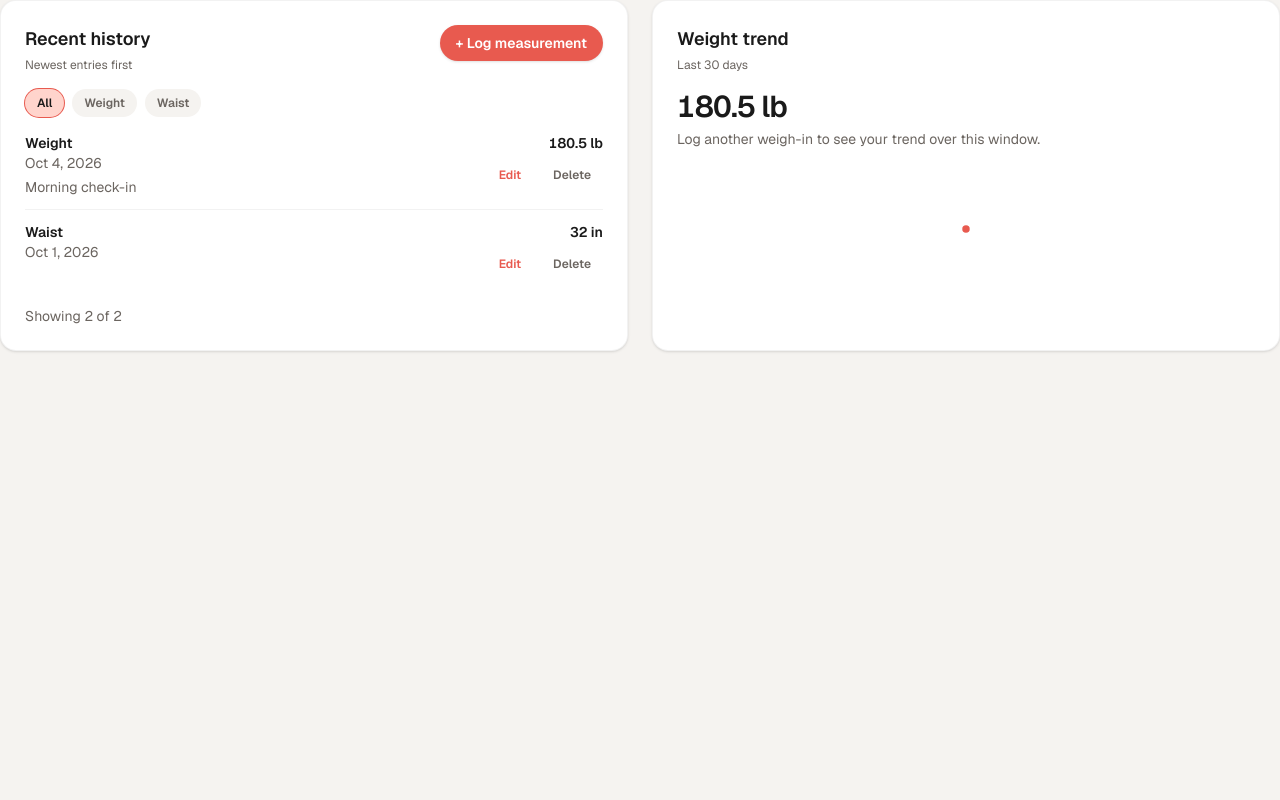
measurement history row actions › prefills edit and submits updateMeasurement with the row id
The image size is (1280, 800).
Click the button with aria-label "Edit Weight on Oct 4, 2026" at (510, 175), box [487, 153, 533, 197]
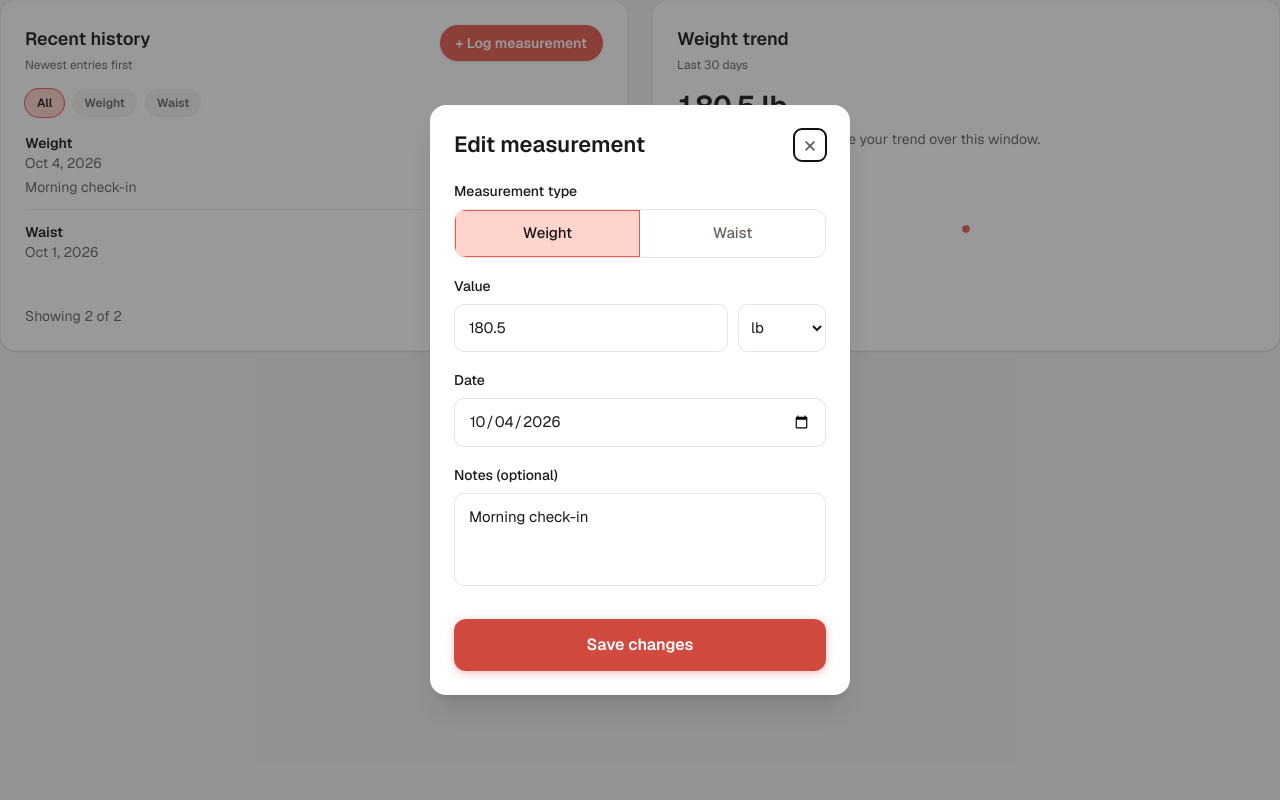
Expected: the field labelled "Value" holds "180.5", [454, 304, 728, 352]
Expected: the dropdown named "Unit" shows "lb", [738, 304, 826, 352]
Expected: the date field labelled "Date" holds "2026-10-04", [454, 398, 826, 446]
Click the button "Save changes" at (640, 645), box [454, 619, 826, 671]
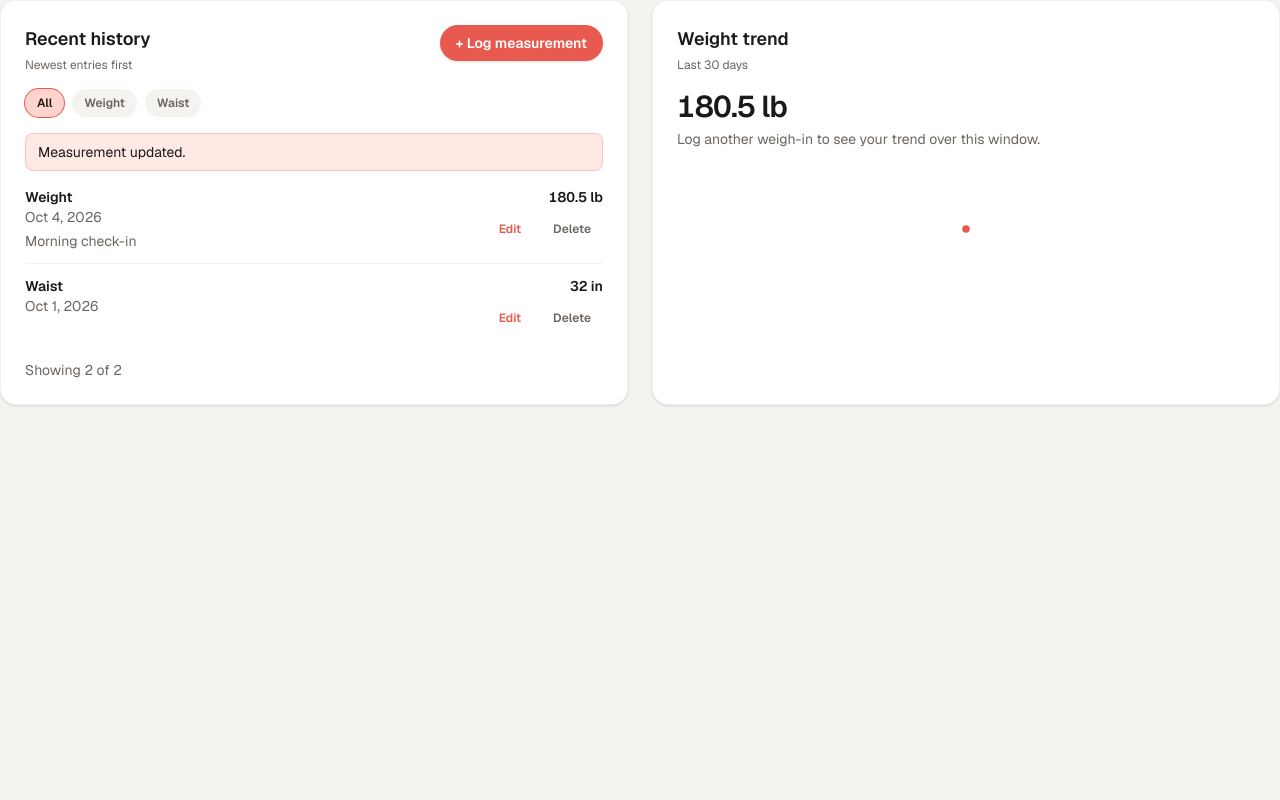
Expected: the message reads "Measurement updated.", [38, 143, 185, 161]
Expected: the heading "Edit measurement" is gone
